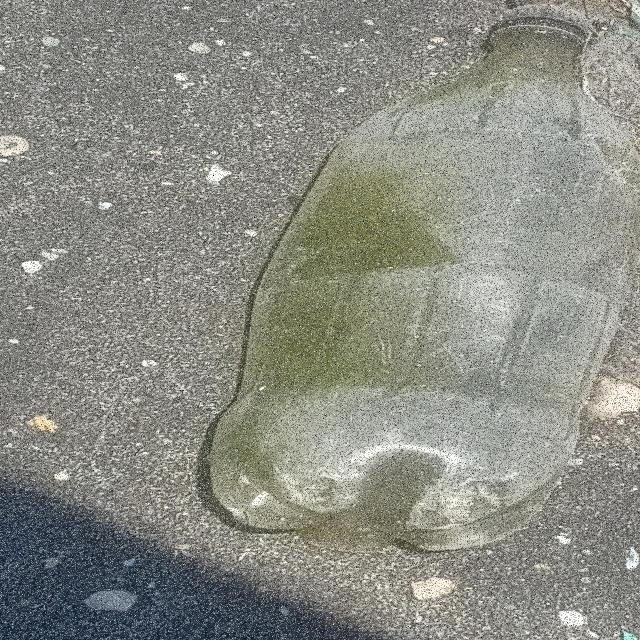plastic_waste: (208, 6, 640, 555)
